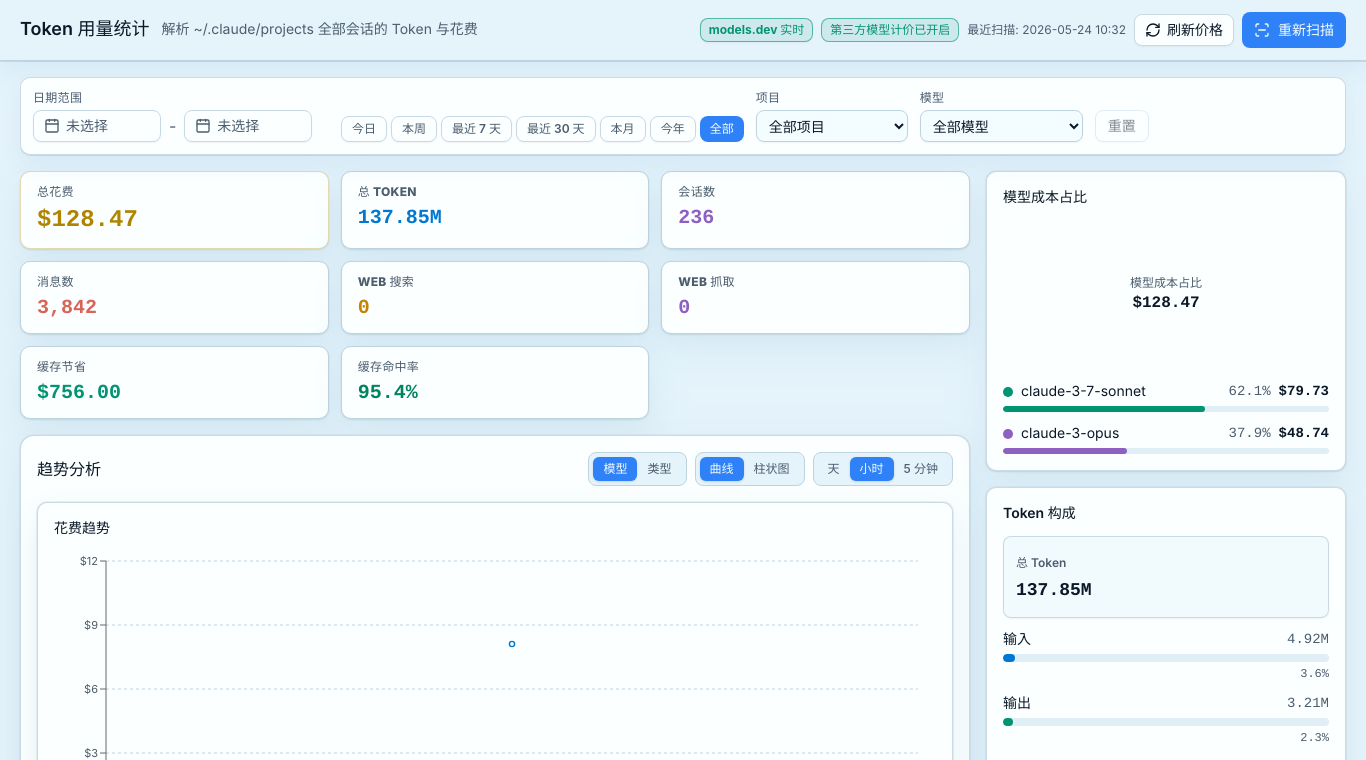
Test: UsagePage cost cockpit › filters the model pricing table by model name
The image size is (1366, 760).
Click the button with aria-label "查看模型价目表" at (756,30), box x1=700 y1=18 x2=813 y2=42
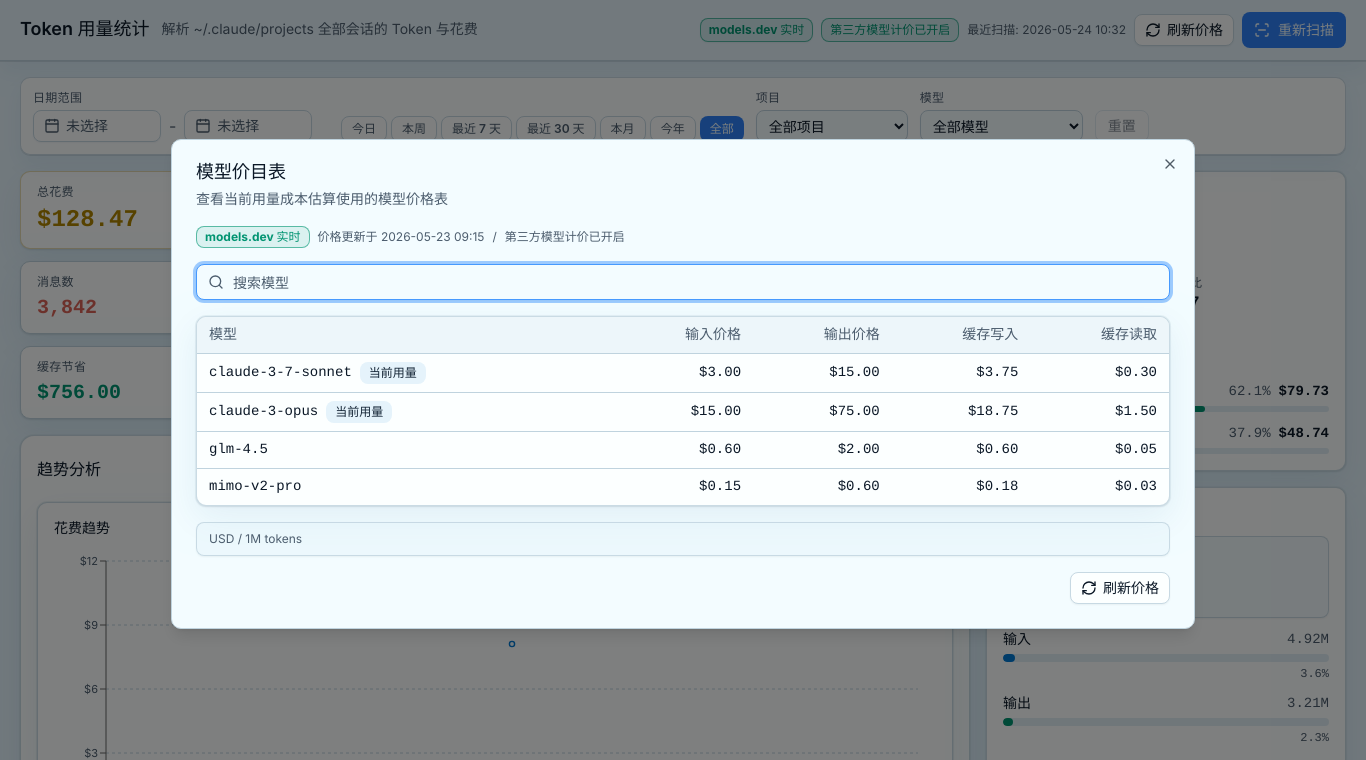
Type "glm" into the field with placeholder "搜索模型" at (683,282), box x1=196 y1=264 x2=1170 y2=300
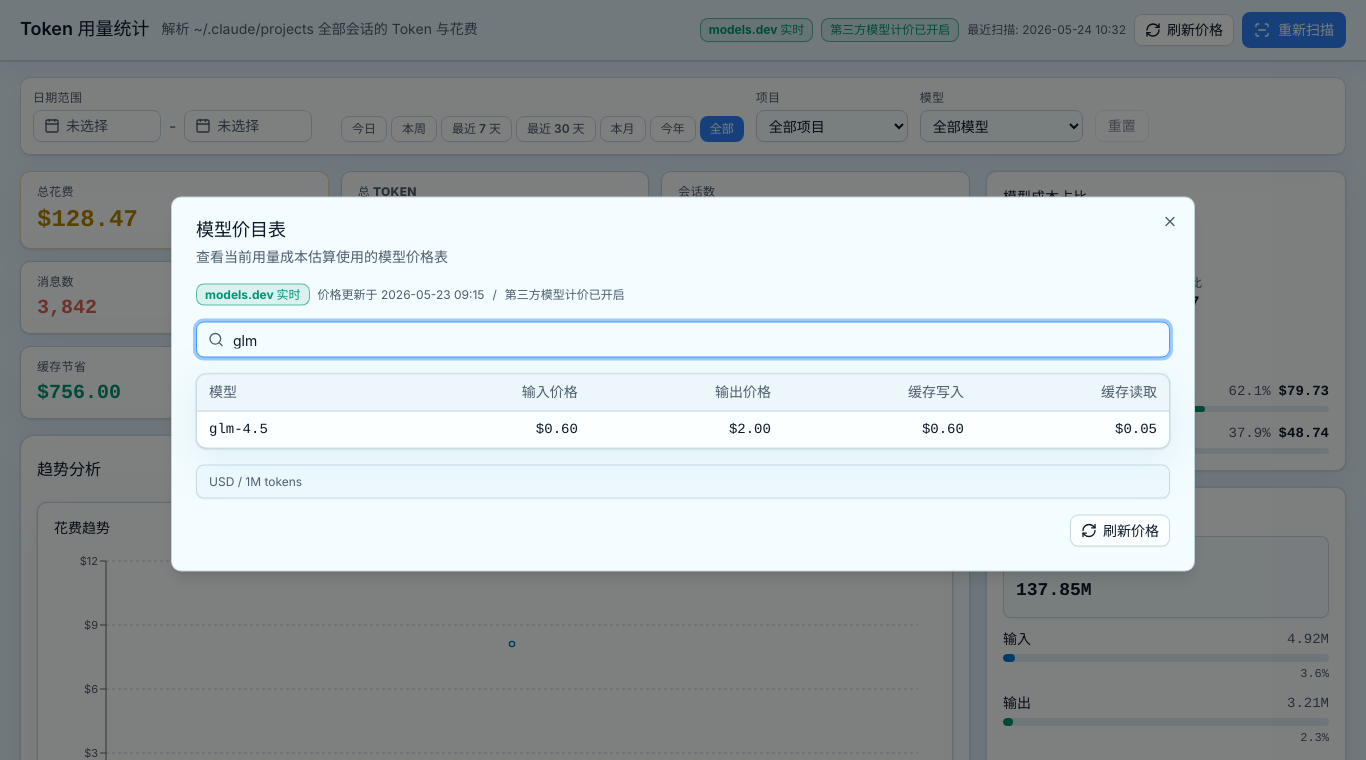
Result: the text "glm-4.5" is shown at x1=209 y1=420 x2=268 y2=440
Replace the text in the field with placeholder "搜索模型" with "missing-model" at (683,340), box x1=196 y1=322 x2=1170 y2=358
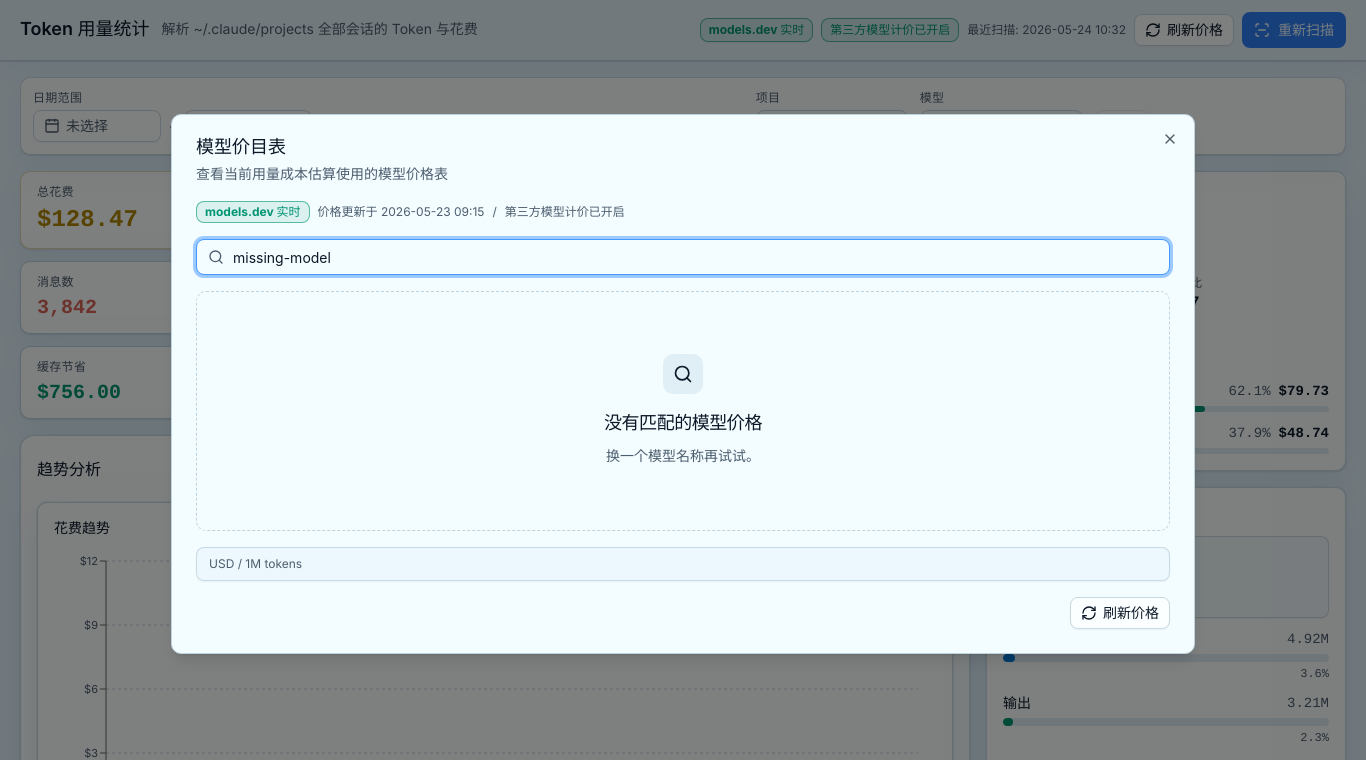
Result: the text "没有匹配的模型价格" is shown at x1=604 y1=410 x2=762 y2=438
